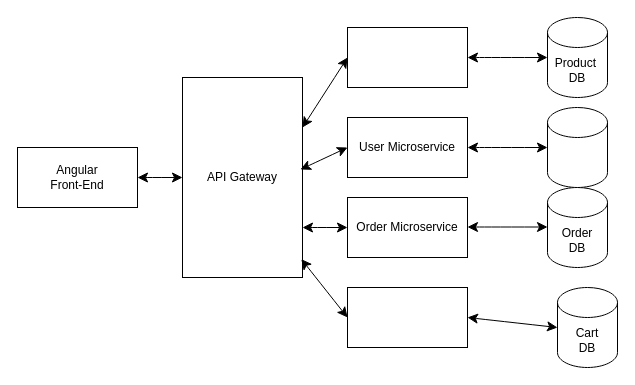
This 635x385 diagram has some shape labels left out. Here are the shapes that lost their labels. From the top down, the box of each, then its label:
(346, 26, 468, 88): Product Microservice
(546, 106, 608, 188): User DB
(346, 286, 468, 348): Cart Microservice
